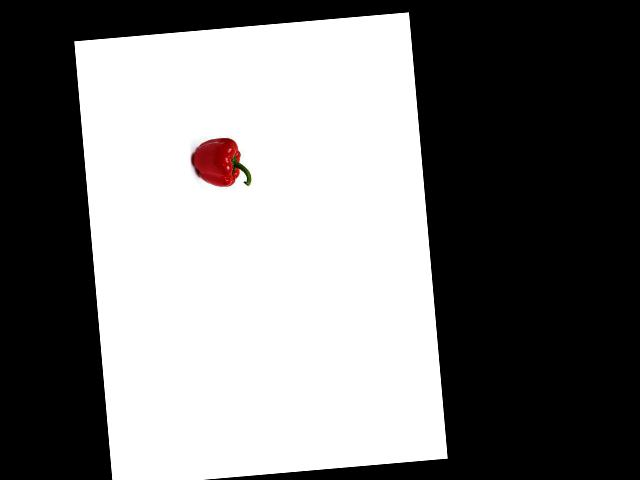bell_pepper: (189, 131, 252, 193)
